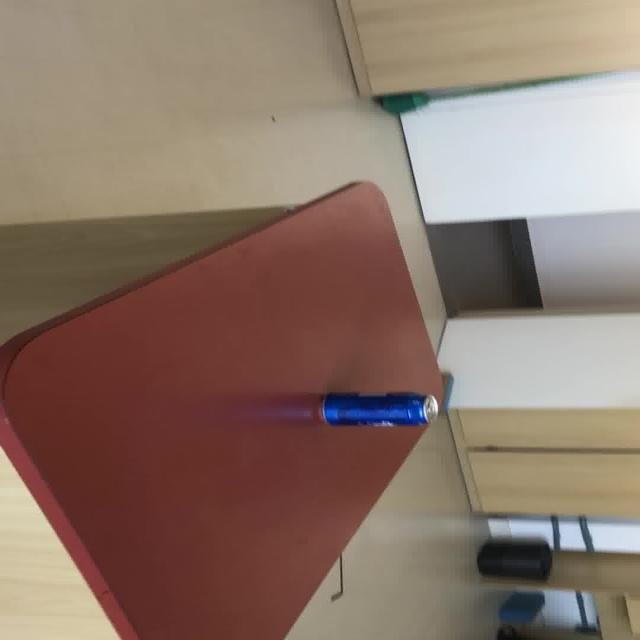tonic: (217, 390, 438, 427), (317, 390, 438, 427)
